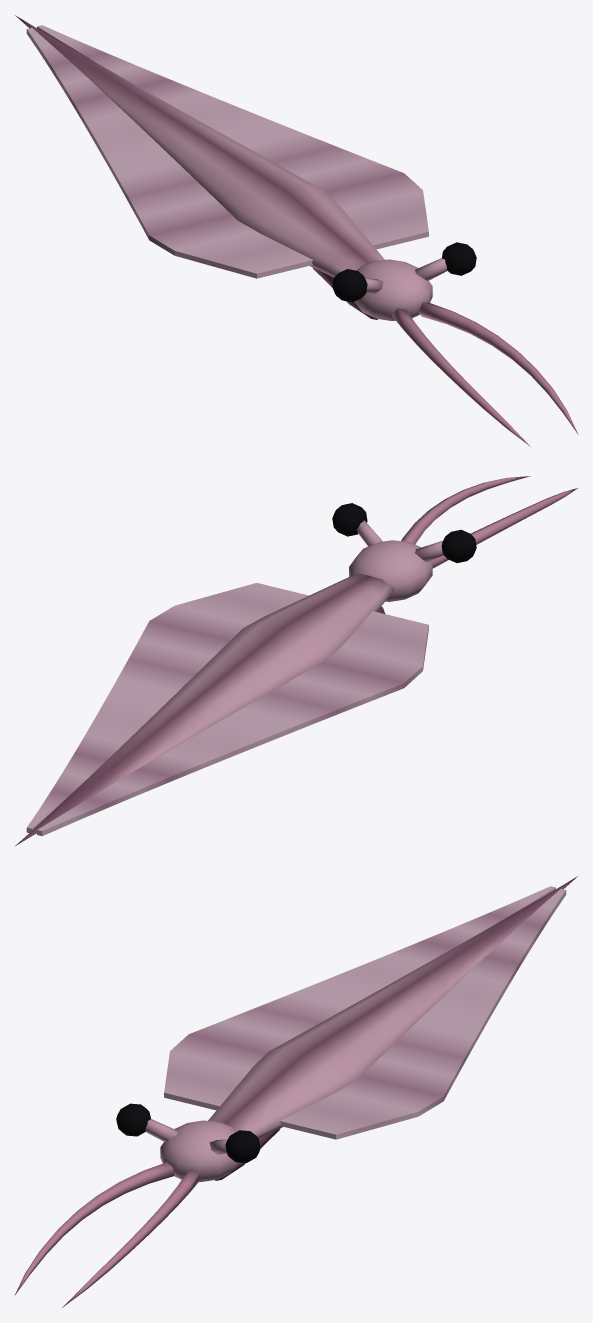
Rendered from Nectocaris.fbx.
3 views of the same model, one above another, from view 1: azimuth 30°, elevation 25°; view 2: azimuth 150°, elevation 25°; view 3: azimuth 330°, elevation 25° (orthographic).
Visible parts, largest first — view 1: Nectocaris; view 2: Nectocaris; view 3: Nectocaris.
Boxes of the visible parts, x1,y1,x2,y2 form: Nectocaris: (15,15,578,446); Nectocaris: (15,476,577,845); Nectocaris: (15,876,577,1307).
Bounding box in the file's own units: 0.4297 × 0.1349 × 1.58.
